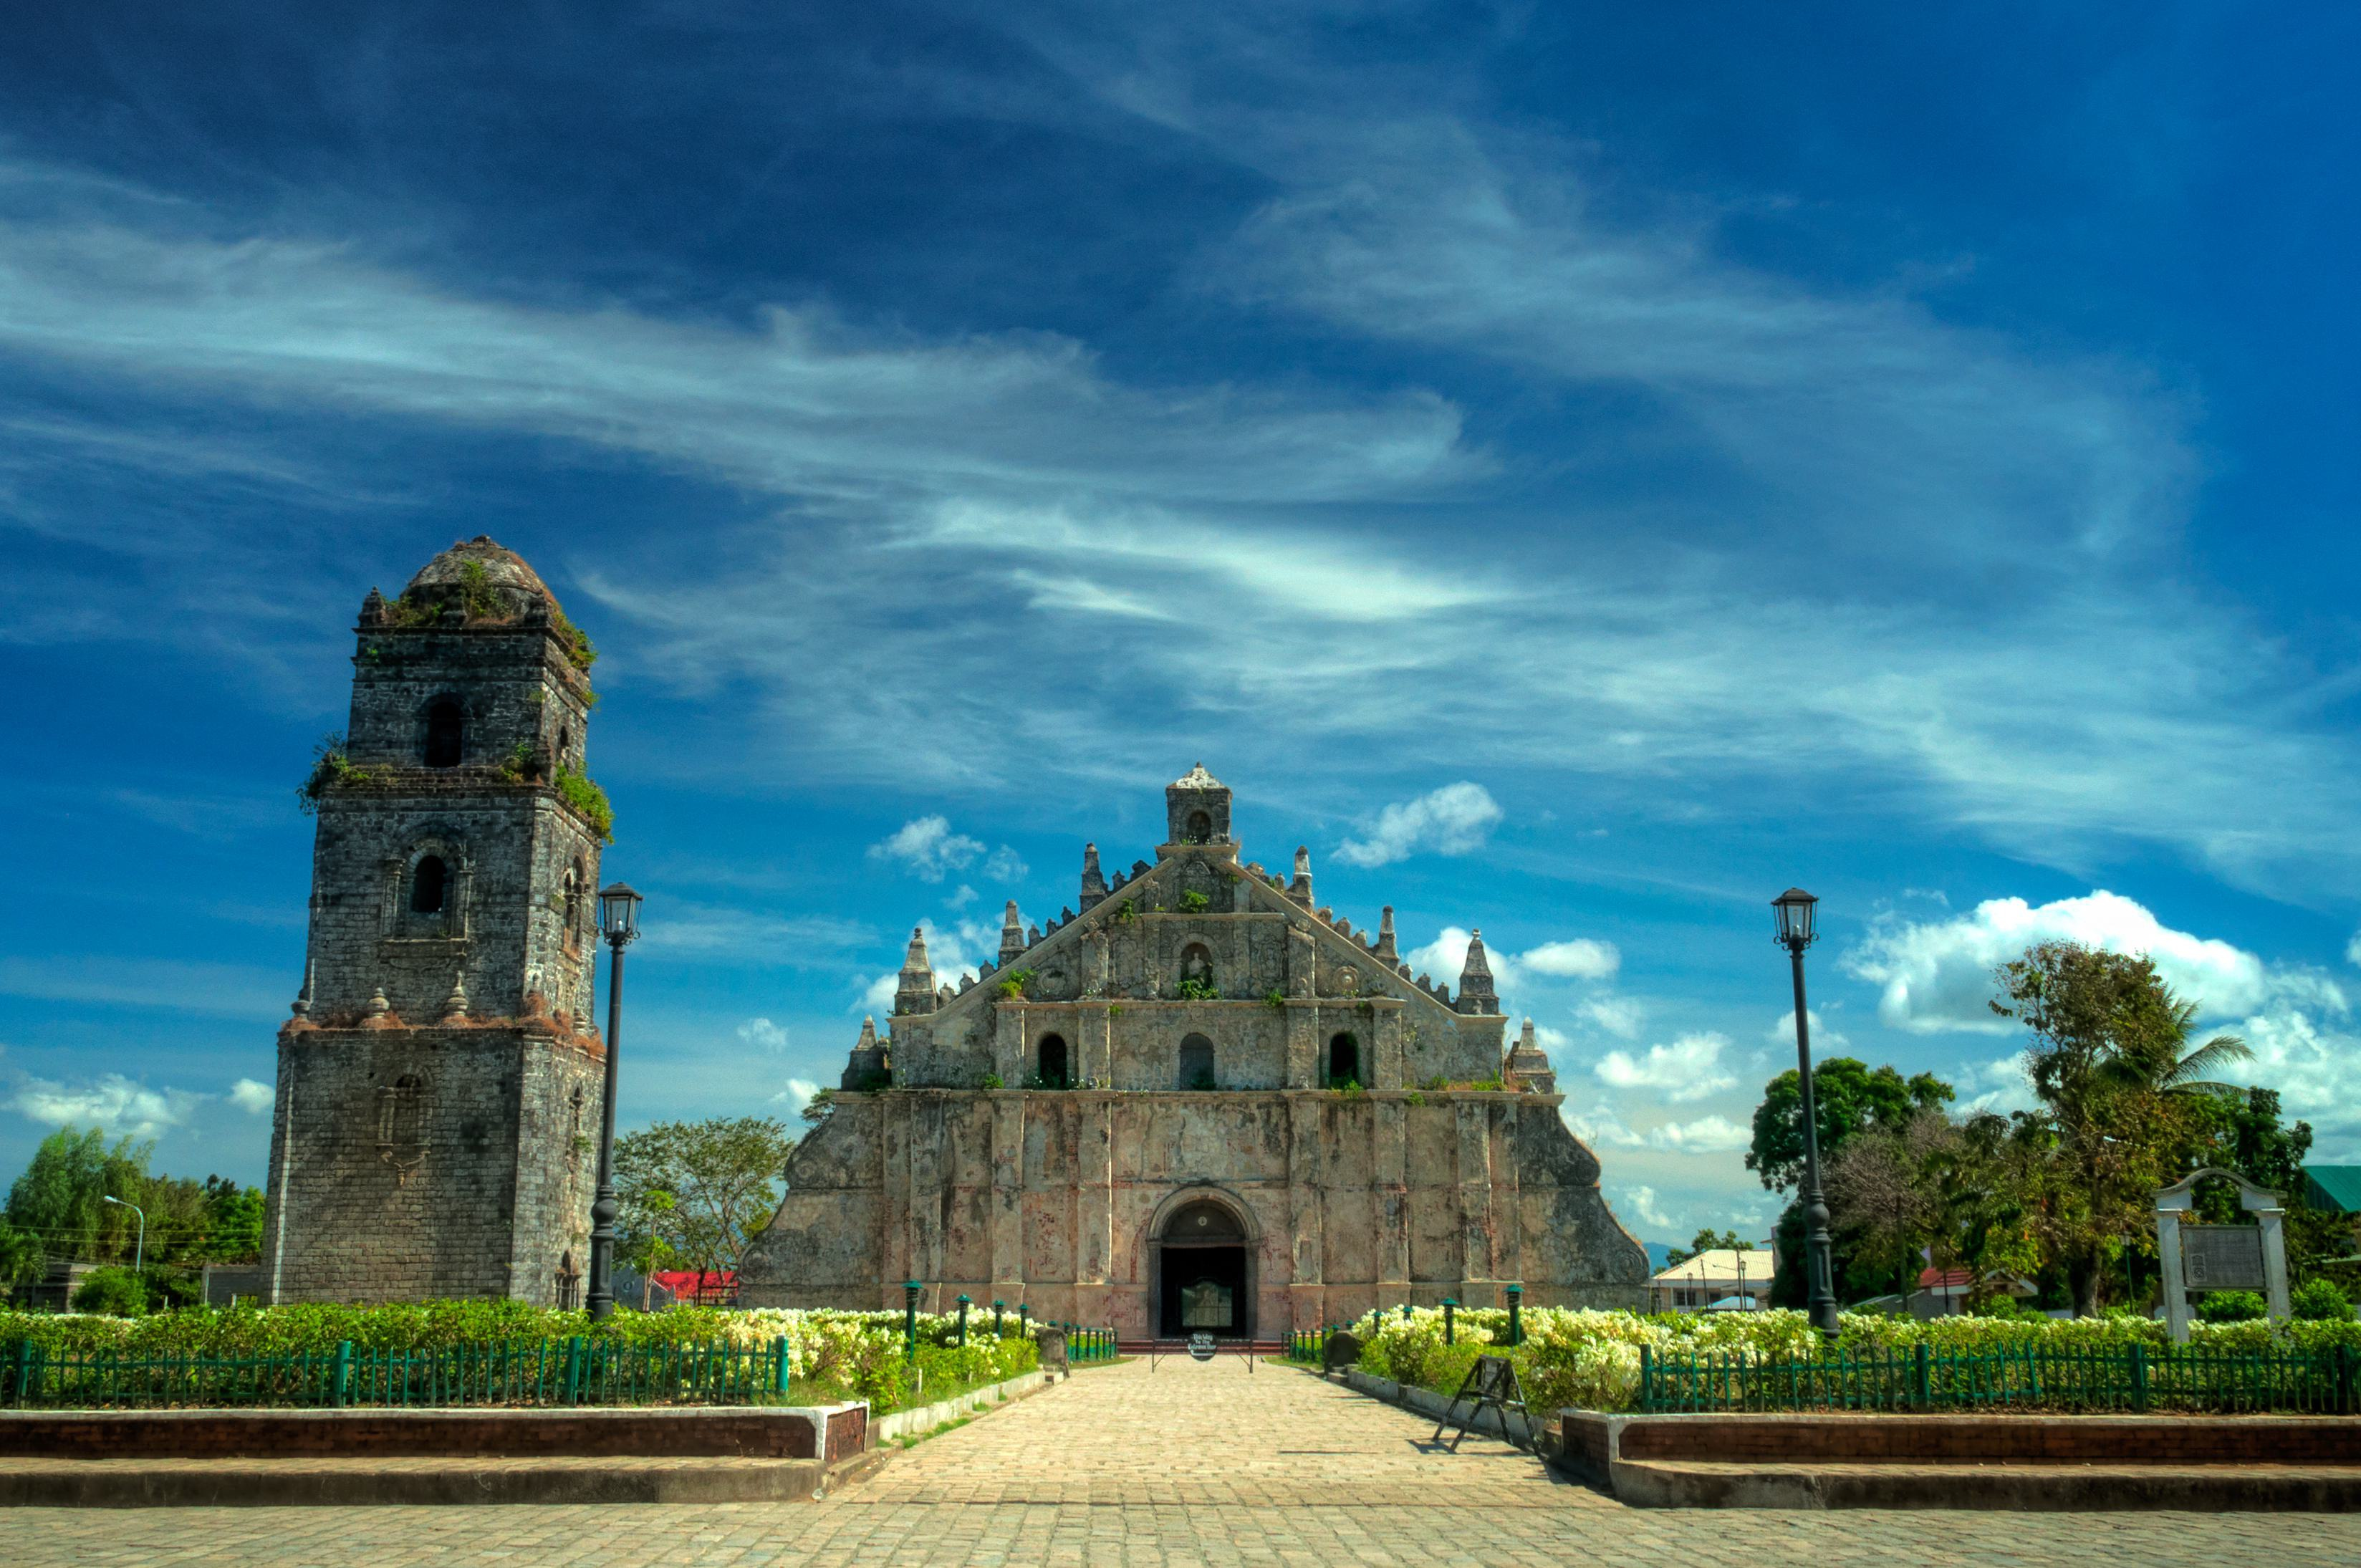paoay_church_paoay_ilocos_norte: (243, 514, 1678, 1375)
vegetation_damage: (539, 763, 632, 843), (292, 735, 382, 807), (1164, 966, 1236, 1022), (1407, 1071, 1509, 1110), (1164, 878, 1229, 927), (991, 959, 1050, 1008), (971, 1061, 1024, 1113), (1323, 1061, 1367, 1104)
